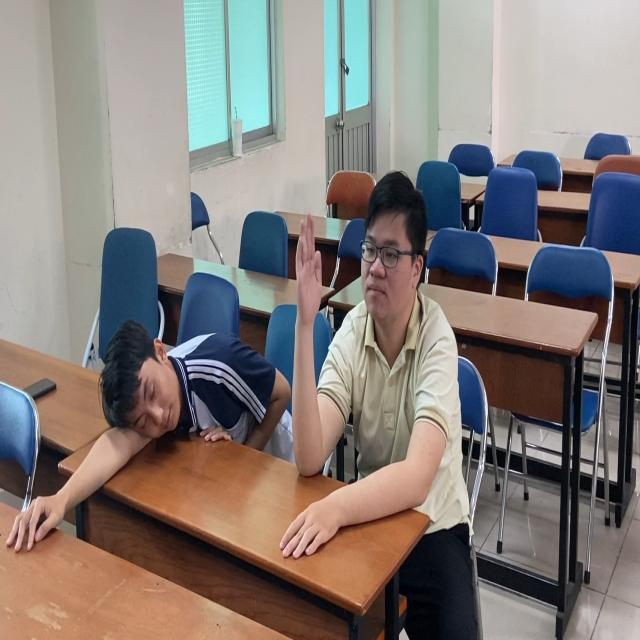raise_hand: (292, 176, 471, 544)
sleep: (66, 313, 286, 482)
